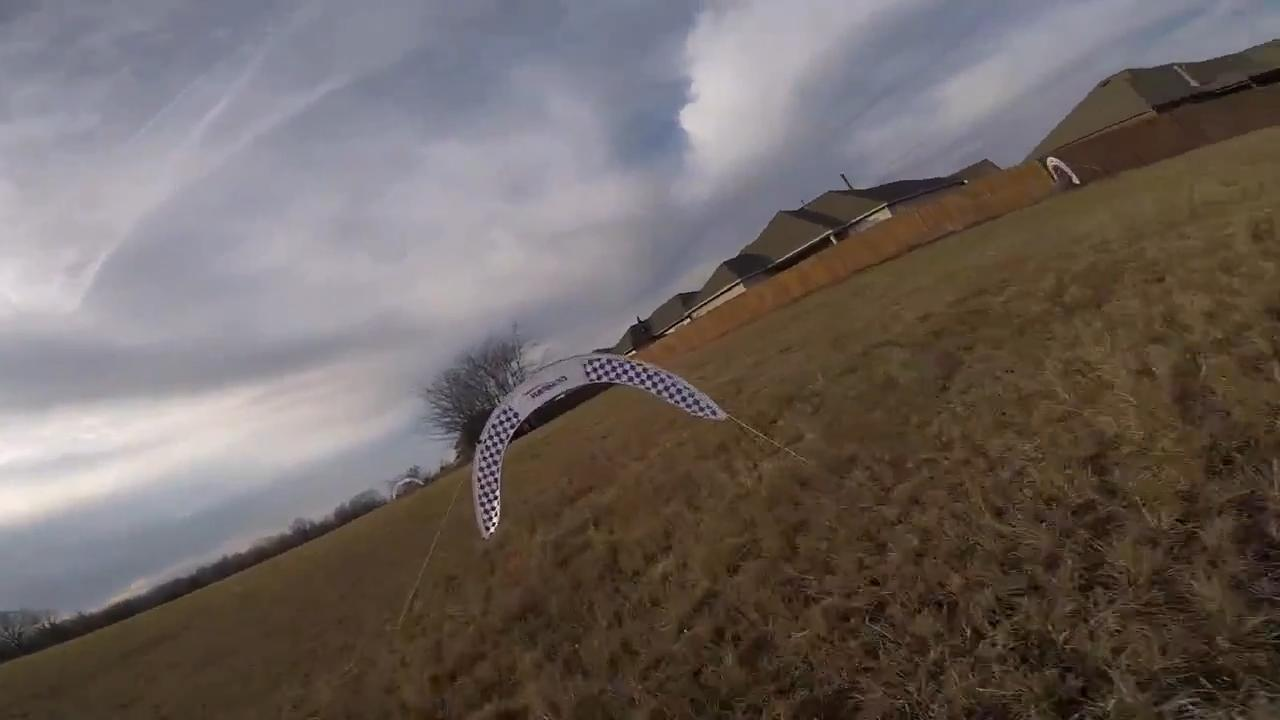gate: (466, 354, 731, 548)
